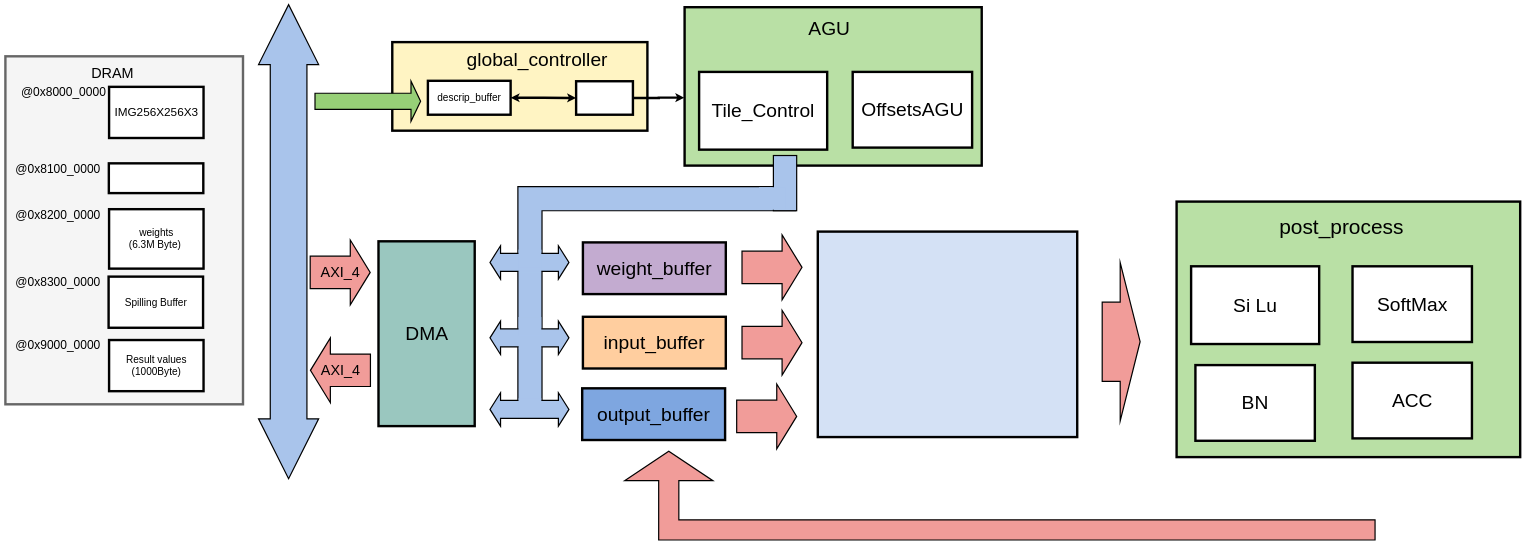
This 1525x545 diagram has some shape labels left out. Here are the shapes that lost their labels. From the top down, the centre of each, then its label:
point 367,101: AXI_lite
point 604,98: FSM
point 156,178: model information (256bit x ~50 layer)
point 288,241: AXI BUS
point 947,334: LEGO_SA
